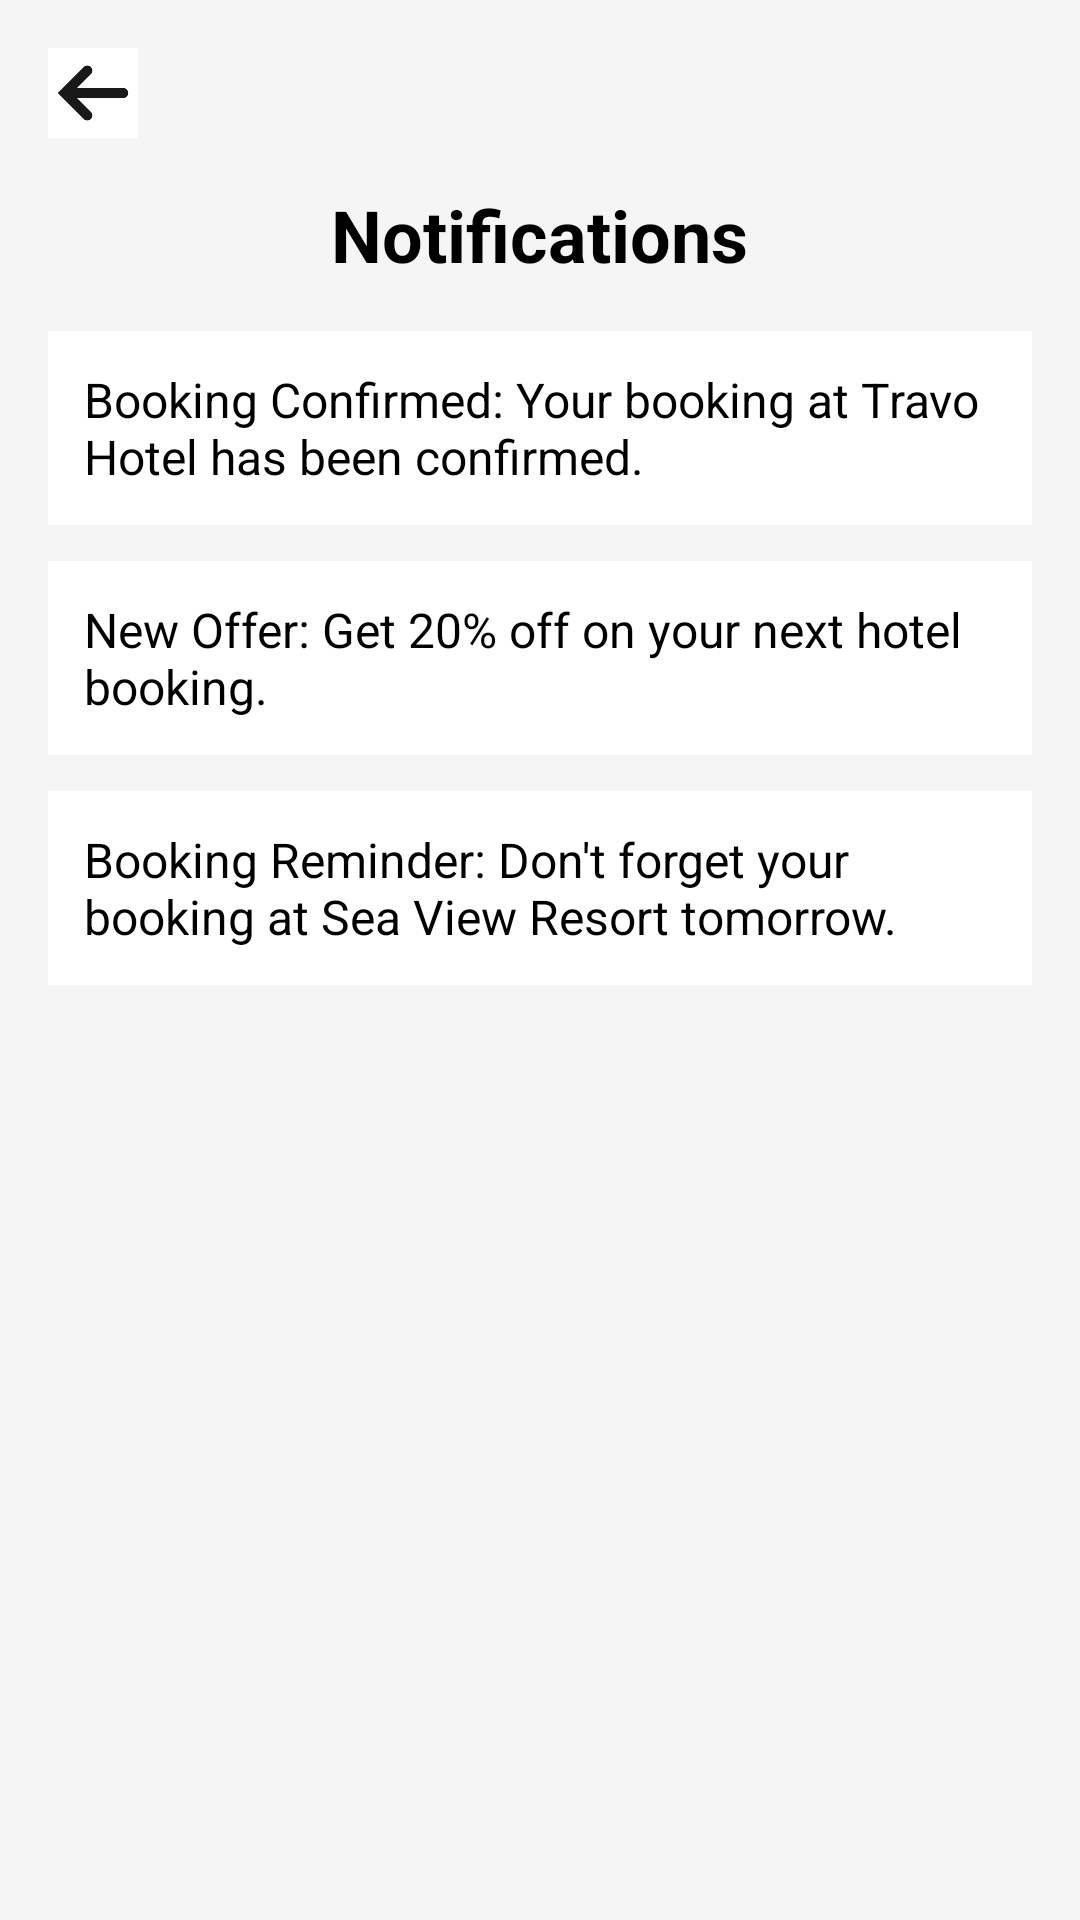

Icon click points for this 1080 x 1920 phone screenshot, format (x,y):
Back: (93,93)
